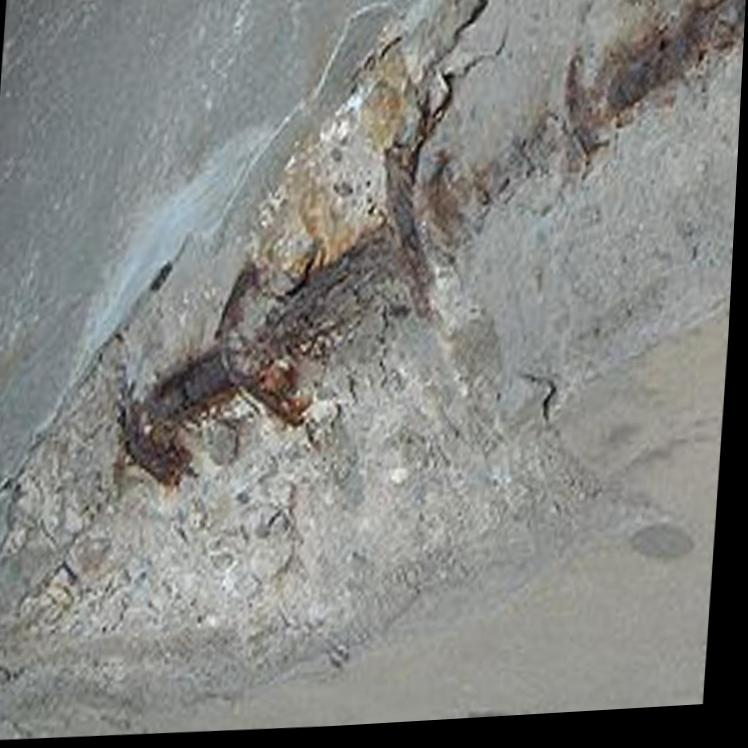damage: (1, 0, 747, 652)
